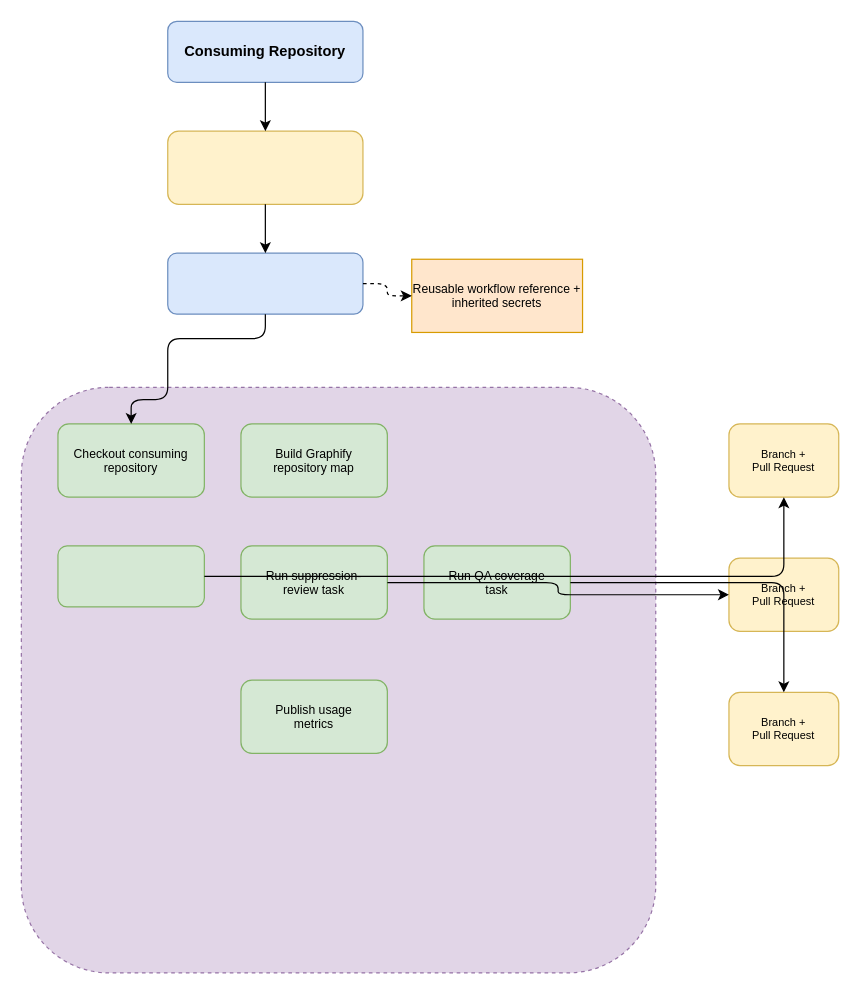
Some shapes in this 860 by 994 pixel diagram are drawn without their labels. The shapes that lost their labels are listed below. From the top down, each one's box as (x1, y1, x2, y2) in pixels, then its label:
(167, 130, 363, 204): Schedule or Manual Dispatch
(167, 252, 363, 314): Caller Workflow
(57, 545, 204, 607): Run janitor task
(20, 386, 656, 973): Shared Improvers Workflow
